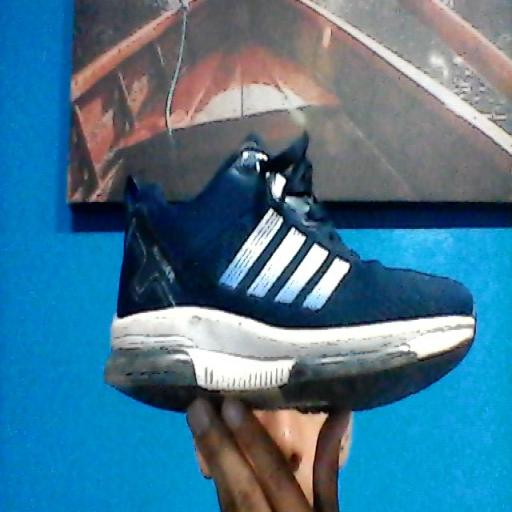shoe: (106, 135, 475, 411)
